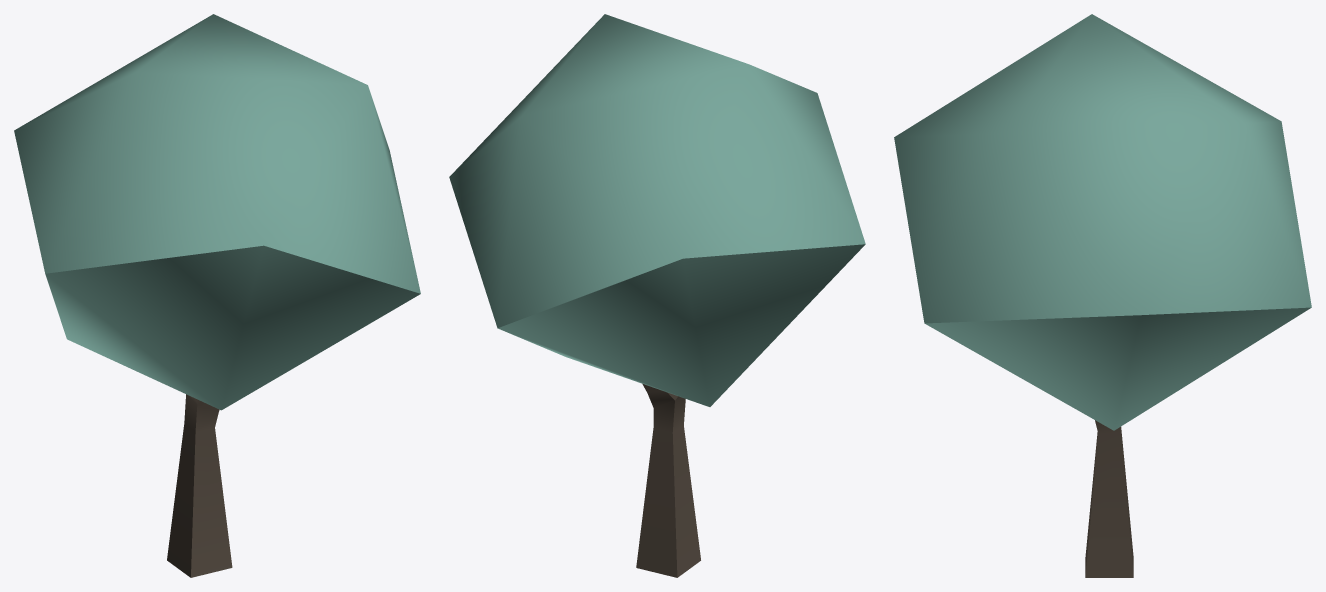
Rendered from RW_HG_Environment_Tree.002.fbx.
3 renders of one model, left to right at view 1: azimuth 30°, elevation 25°; view 2: azimuth 150°, elevation 25°; view 3: azimuth 270°, elevation 25°, orthographic.
Parts seen in each view (by area): view 1: RW_HG_Environment_Tree.002; view 2: RW_HG_Environment_Tree.002; view 3: RW_HG_Environment_Tree.002.
Part boxes in pixels (x1,y1,x2,y2): RW_HG_Environment_Tree.002: [14, 14, 420, 577]; RW_HG_Environment_Tree.002: [449, 14, 865, 577]; RW_HG_Environment_Tree.002: [894, 14, 1311, 577].
Size of the model in its own units: 1.34 by 1.72 by 1.26.
